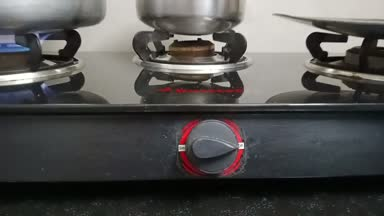flame_gas_off: (140, 17, 255, 165)
flame_gas_on: (0, 16, 80, 107)
